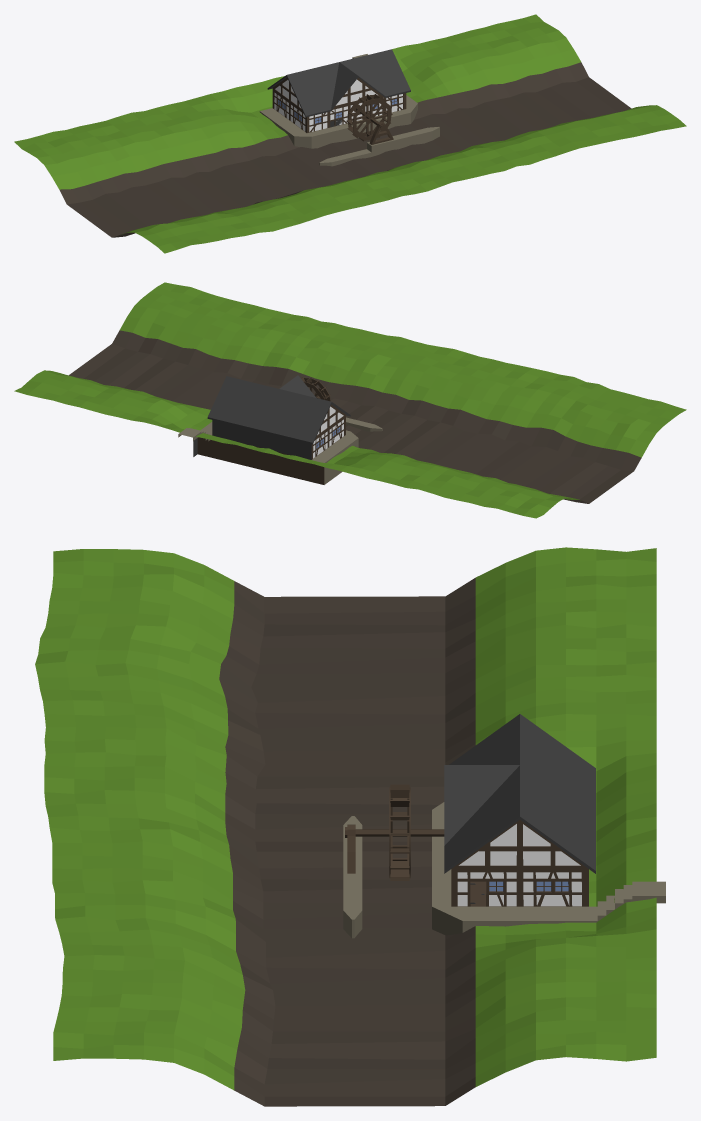
File: TerrainSegMill.fbx
3 renders of one model, top to bottom at view 1: azimuth 30°, elevation 25°; view 2: azimuth 150°, elevation 25°; view 3: azimuth 270°, elevation 25°, orthographic. The views are drawn at different scales.
Visible parts, largest first — view 1: TerrainSegMill, Mill, WaterWheel; view 2: TerrainSegMill, Mill; view 3: TerrainSegMill, Mill, WaterWheel.
Boxes of the visible parts, box(x1,y1,x2,y2) form: TerrainSegMill: box(14, 14, 686, 253); Mill: box(259, 49, 439, 166); WaterWheel: box(346, 94, 392, 141); TerrainSegMill: box(14, 282, 686, 518); Mill: box(178, 375, 382, 484); TerrainSegMill: box(35, 547, 656, 1106); Mill: box(343, 714, 665, 938); WaterWheel: box(355, 784, 444, 880).
Size of the model in its own units: 8000 by 1009 by 4184.
